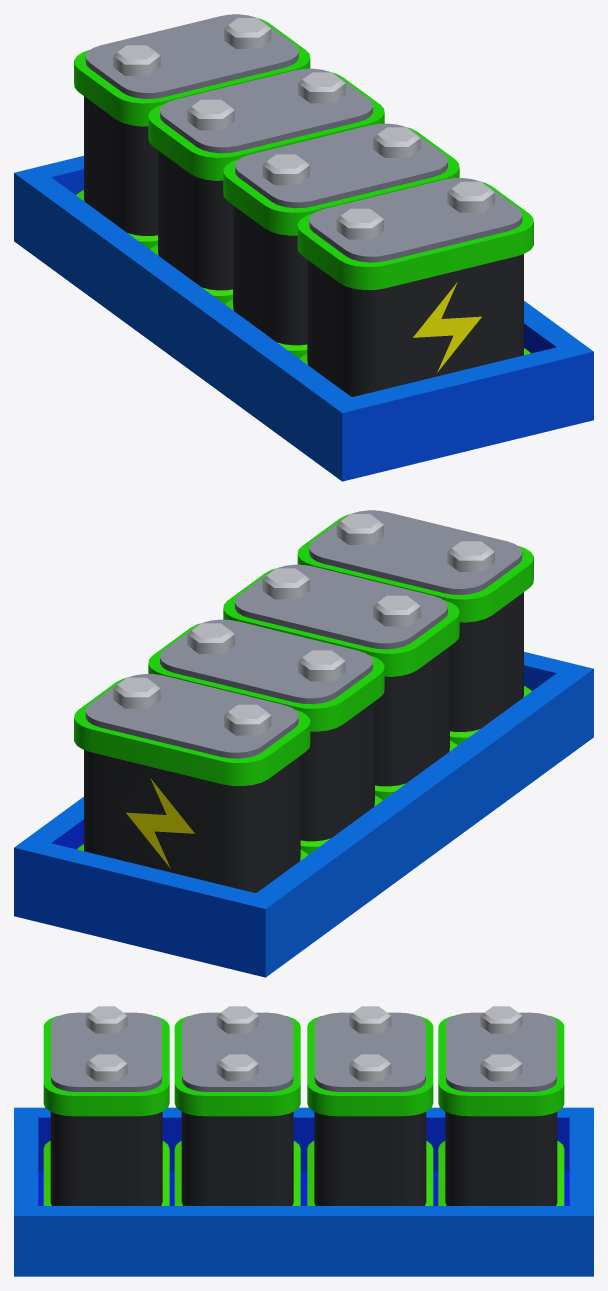
The model's file is NF_IT_Cell_BoxE.fbx.
3 renders of one model, top to bottom at view 1: azimuth 30°, elevation 25°; view 2: azimuth 150°, elevation 25°; view 3: azimuth 270°, elevation 25°, orthographic. The views are drawn at different scales.
Parts seen in each view (by area): view 1: NF_IT_Cell_BoxE; view 2: NF_IT_Cell_BoxE; view 3: NF_IT_Cell_BoxE.
Boxes of the visible parts, left/top/right/bottom form: NF_IT_Cell_BoxE: left=14, top=14, right=593, bottom=481; NF_IT_Cell_BoxE: left=14, top=510, right=593, bottom=977; NF_IT_Cell_BoxE: left=14, top=1006, right=593, bottom=1276.
Size of the model in its own units: 1.14 by 0.9132 by 2.59.
Materials: 1 (1 with a texture image).
